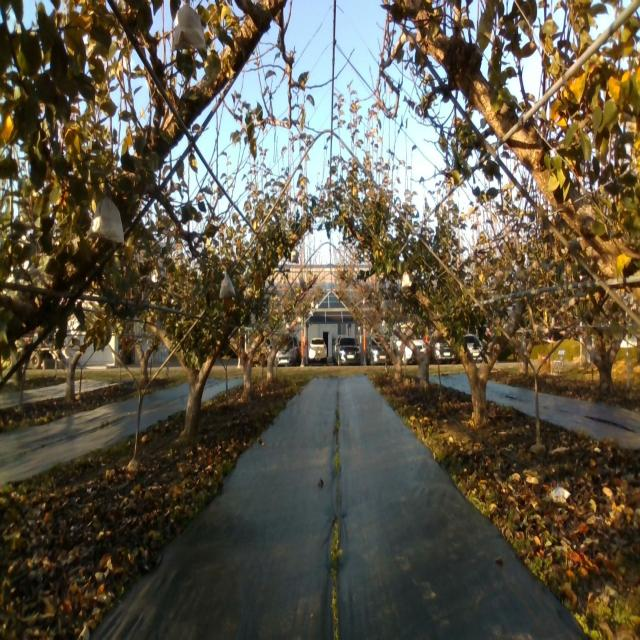pearbags: (86, 195, 126, 247), (171, 4, 206, 51), (219, 274, 235, 299)
